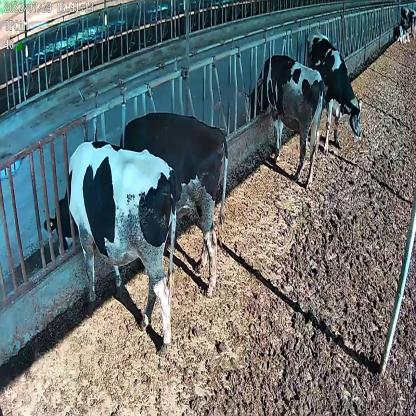cow: (44, 138, 180, 357), (120, 112, 230, 302), (246, 54, 325, 188), (308, 29, 364, 150)
